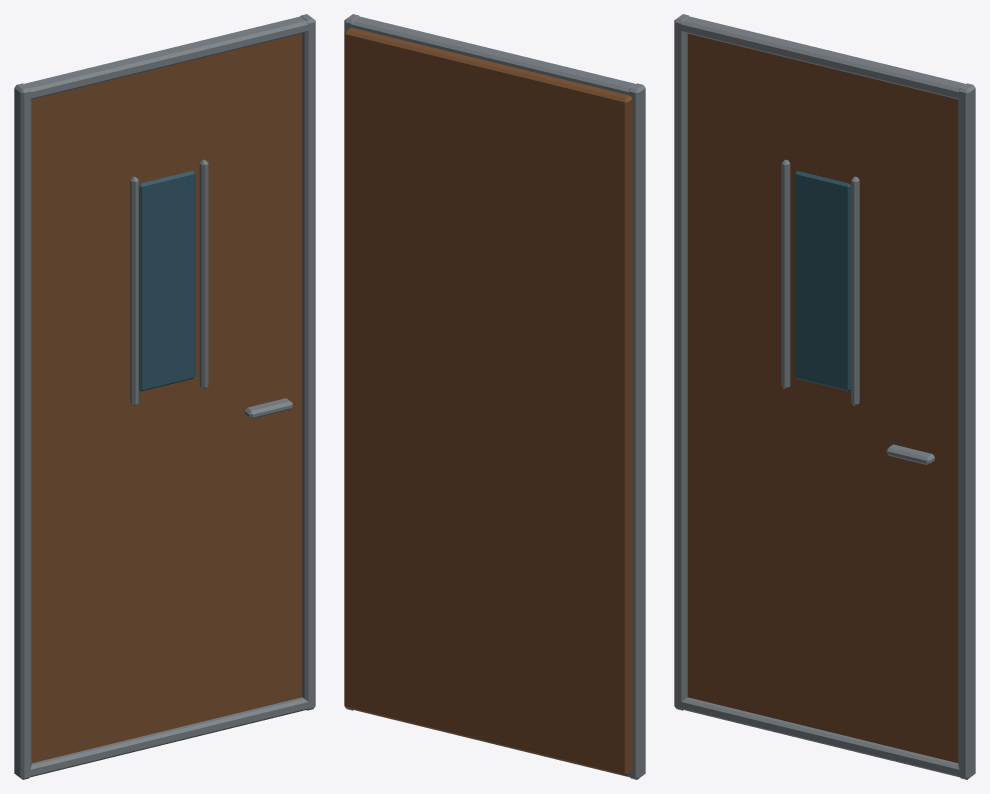
The model's file is OfficeDoor.fbx.
3 renders of one model, left to right at view 1: azimuth 30°, elevation 25°; view 2: azimuth 150°, elevation 25°; view 3: azimuth 330°, elevation 25°, orthographic.
Parts seen in each view (by area): view 1: OfficeDoor; view 2: OfficeDoor; view 3: OfficeDoor.
Part boxes in pixels (bbox=[...]): OfficeDoor: bbox=[14, 14, 315, 779]; OfficeDoor: bbox=[344, 14, 645, 779]; OfficeDoor: bbox=[674, 14, 975, 779].
Bounding box in the file's own units: 93.5 × 209 × 12.5.
1 material, 1 textured.
